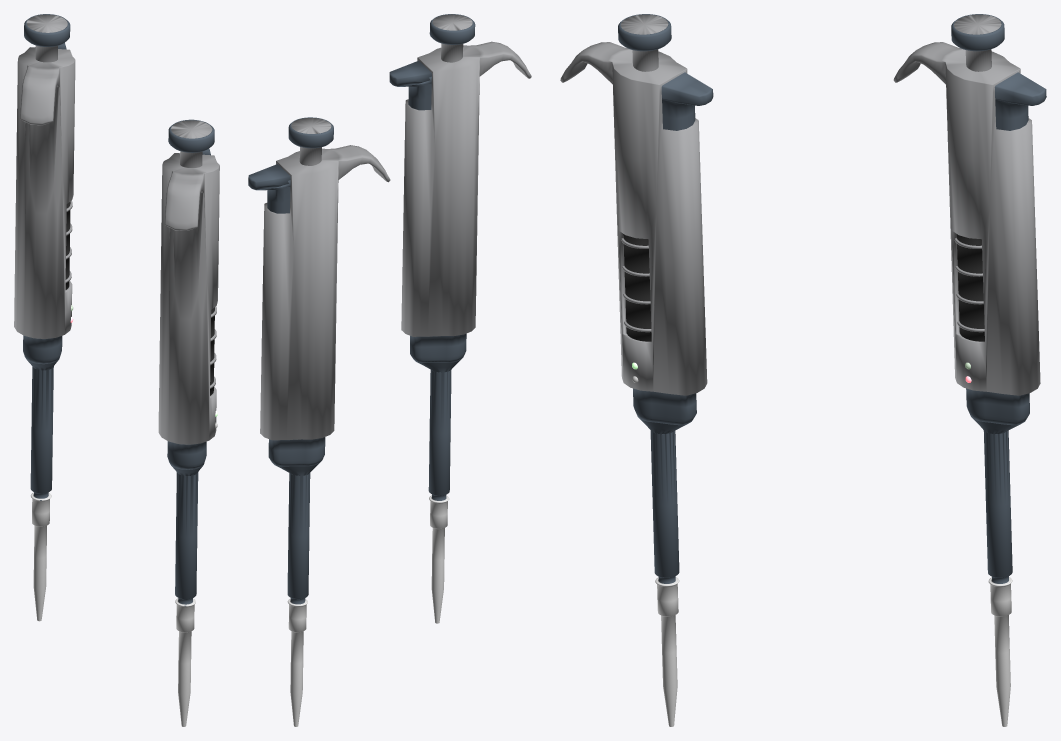
File: laboratory_pippete.glb
3 views of the same model, side by side, from view 1: azimuth 30°, elevation 25°; view 2: azimuth 150°, elevation 25°; view 3: azimuth 270°, elevation 25° (orthographic). The views are drawn at different scales.
Parts seen in each view (by area): view 1: pippet.002, pippet.008, pippet.010, pippet.004, pippet.011, pippet.005, pippet, pippet.001; view 2: pippet.002, pippet.008, pippet.004, pippet.010, pippet.005, pippet.011, pippet.003, pippet.009; view 3: pippet.008, pippet.002, pippet.010, pippet.004, pippet, pippet.001, pippet.011, pippet.005, pippet.003, pippet.009.
Part boxes in pixels (x1,y1,x2,y2): pippet.002: [14, 47, 75, 364]; pippet.008: [158, 153, 219, 469]; pippet.010: [172, 466, 202, 726]; pippet.004: [27, 360, 58, 621]; pippet.011: [168, 119, 214, 167]; pippet.005: [24, 14, 70, 62]; pippet: [65, 200, 72, 289]; pippet.001: [210, 306, 216, 395]; pippet.002: [260, 145, 390, 466]; pippet.008: [401, 41, 531, 362]; pippet.004: [277, 463, 318, 726]; pippet.010: [418, 360, 460, 623]; pippet.005: [288, 117, 333, 165]; pippet.011: [429, 14, 475, 62]; pippet.003: [248, 164, 290, 213]; pippet.009: [389, 60, 431, 110]; pippet.008: [560, 42, 707, 425]; pippet.002: [893, 42, 1040, 425]; pippet.010: [638, 417, 686, 726]; pippet.004: [972, 418, 1019, 726]; pippet: [954, 234, 984, 341]; pippet.001: [621, 234, 651, 341]; pippet.011: [618, 14, 671, 71]; pippet.005: [951, 14, 1004, 71]; pippet.003: [994, 72, 1046, 130]; pippet.009: [661, 72, 713, 130].
Size of the model in its own units: 1.12 by 6.87 by 4.32.
